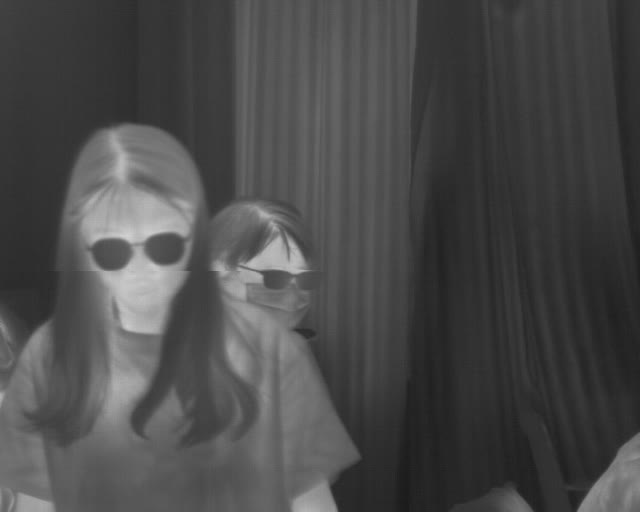face: (67, 124, 197, 315), (215, 197, 321, 333)
